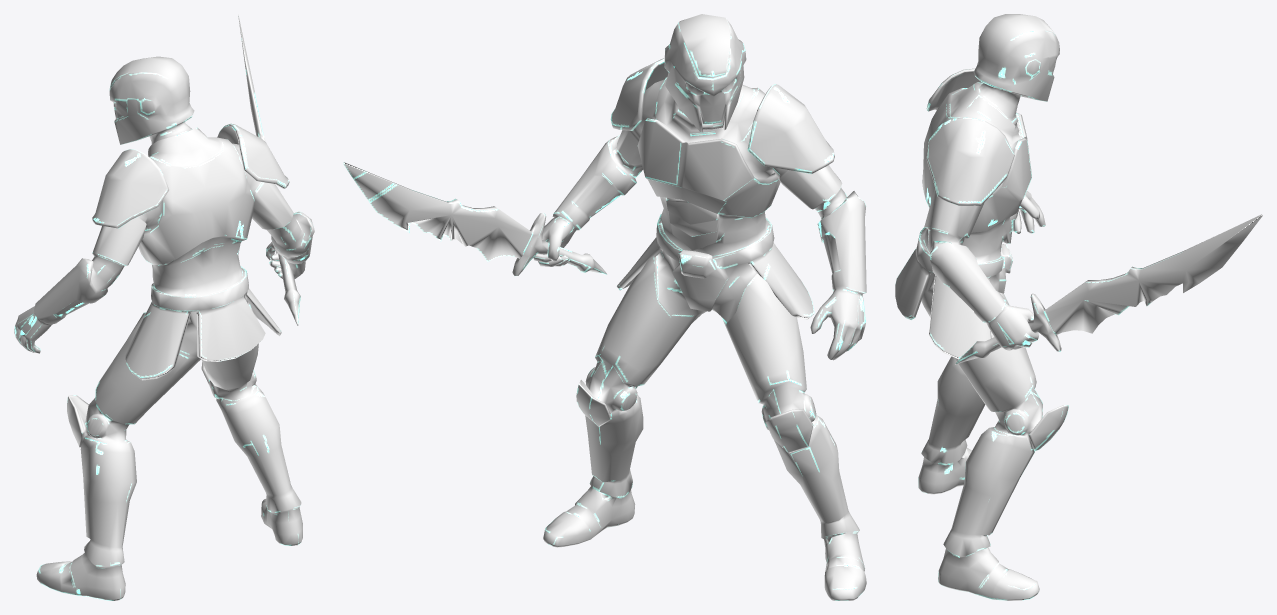
Rendered from guerrier_v3.glb.
3 renders of one model, left to right at view 1: azimuth 30°, elevation 25°; view 2: azimuth 150°, elevation 25°; view 3: azimuth 270°, elevation 25°, orthographic. The views are drawn at different scales.
Visible parts, largest first — view 1: knight_v3; view 2: knight_v3; view 3: knight_v3.
Boxes of the visible parts, x1,y1,x2,y2 form: knight_v3: (14,15,314,600); knight_v3: (343,14,866,600); knight_v3: (895,14,1262,600).
Size of the model in its own units: 1.88 by 2.6 by 1.68.
1 material, 1 textured.
